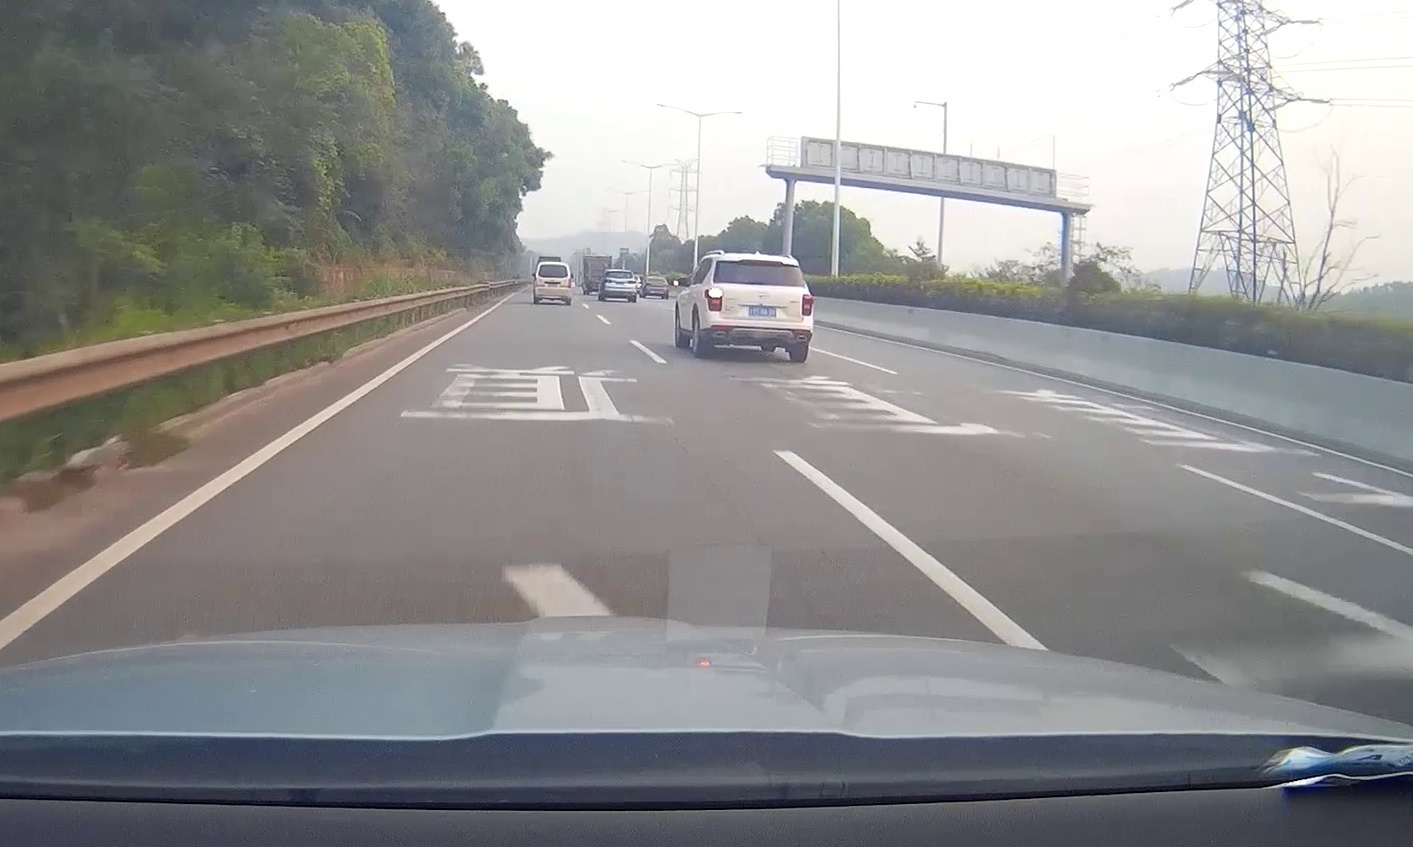L_light: (704, 289, 722, 312), (603, 279, 611, 283), (535, 278, 537, 285)
R_light: (802, 293, 813, 316), (568, 279, 570, 286), (629, 281, 635, 283)
T_light: (753, 262, 767, 264), (549, 265, 556, 267), (617, 272, 622, 274)
day-left: (701, 255, 814, 363)
day-no: (534, 262, 572, 305), (602, 269, 636, 302)
